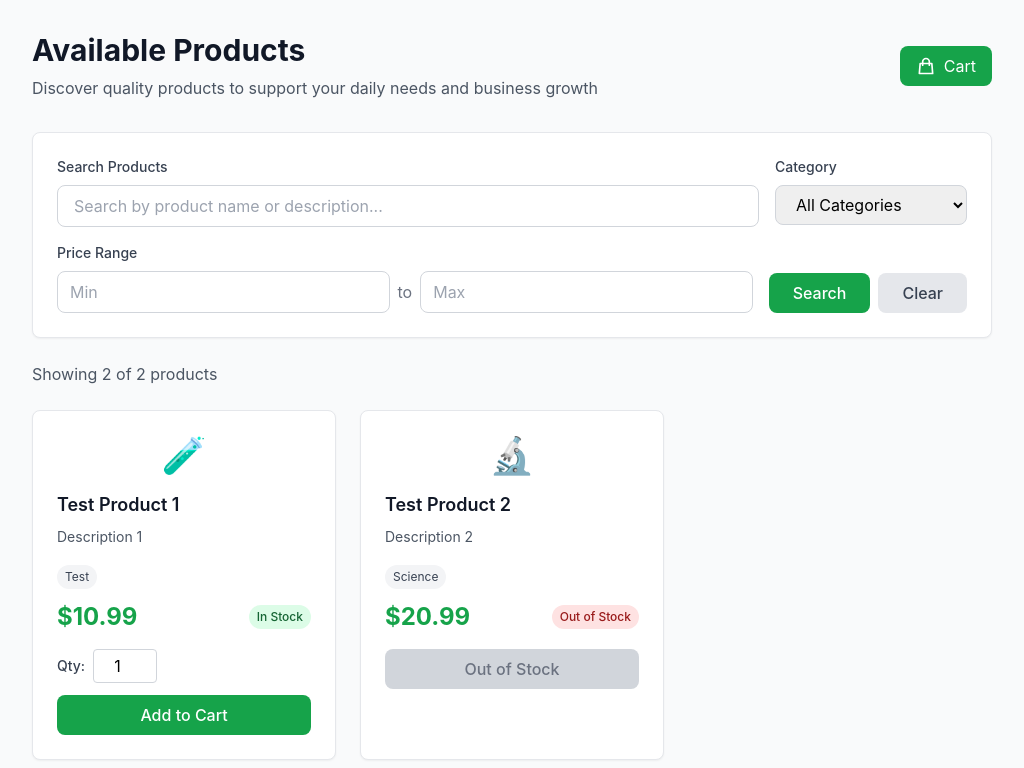
Test: ProductsPage › price range filter works correctly
expect the heading "Test Product 1" is shown: met, box top-left (57, 494), bottom-right (180, 515)
Type "15" into the number field with placeholder "Min".
click(223, 292); type("15")  # box top-left (57, 271), bottom-right (390, 313)
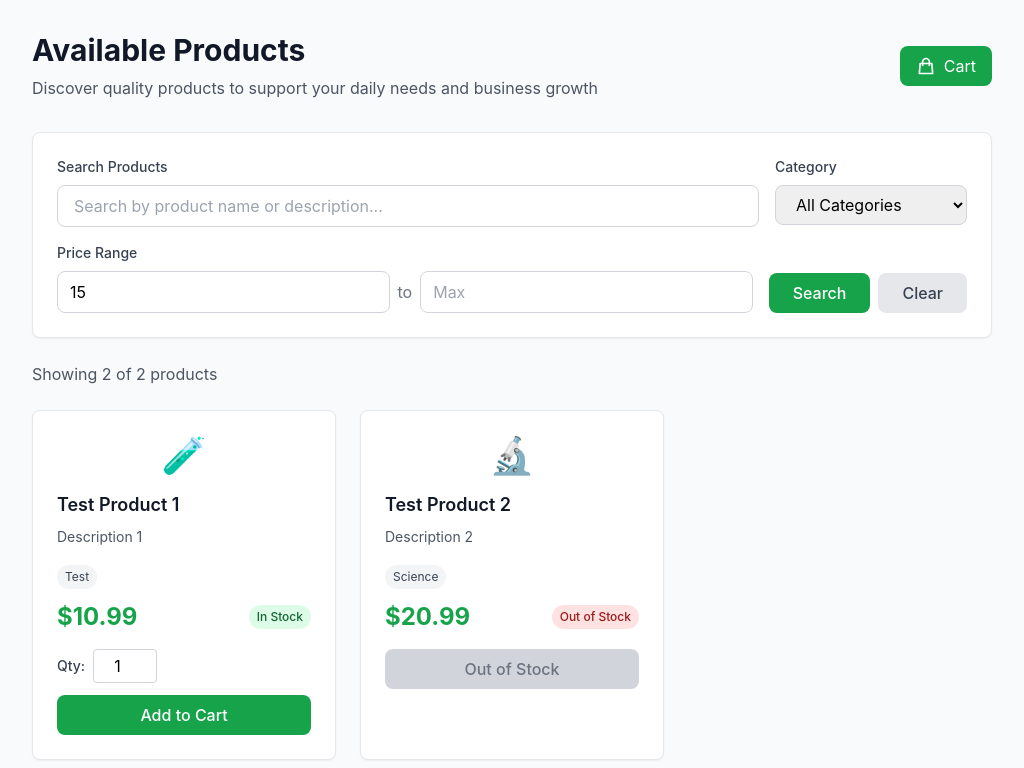
Type "25" into the number field with placeholder "Max".
click(586, 292); type("25")  # box top-left (420, 271), bottom-right (753, 313)
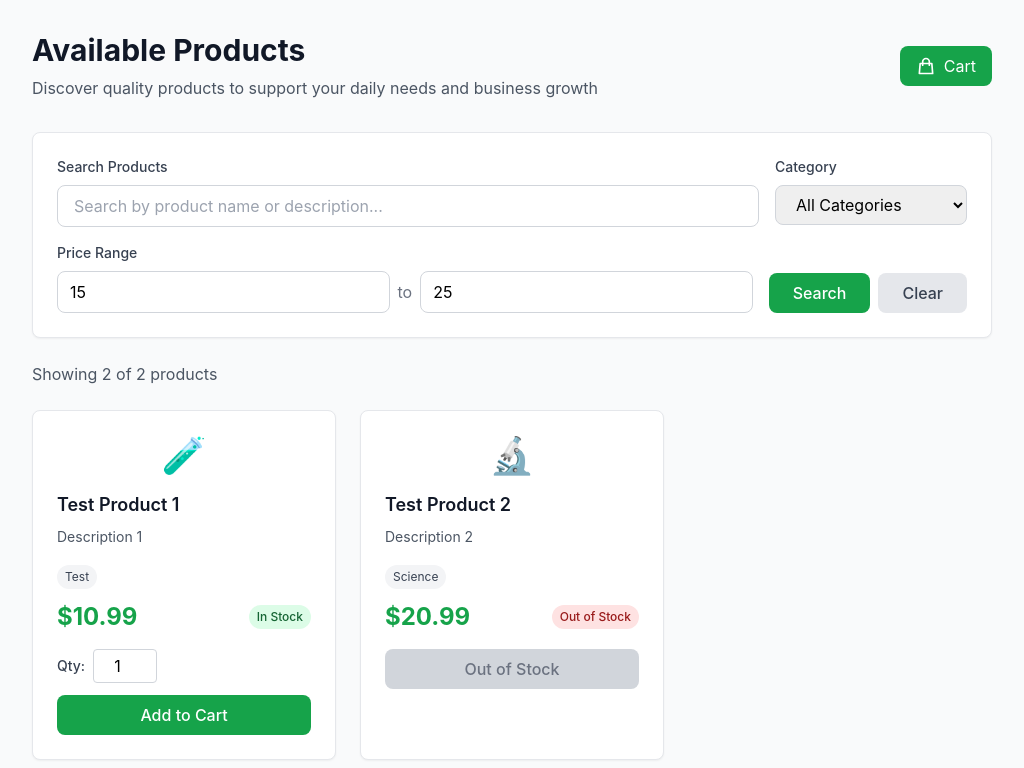
Click the button "Search".
click(820, 293)  # box top-left (769, 273), bottom-right (870, 313)
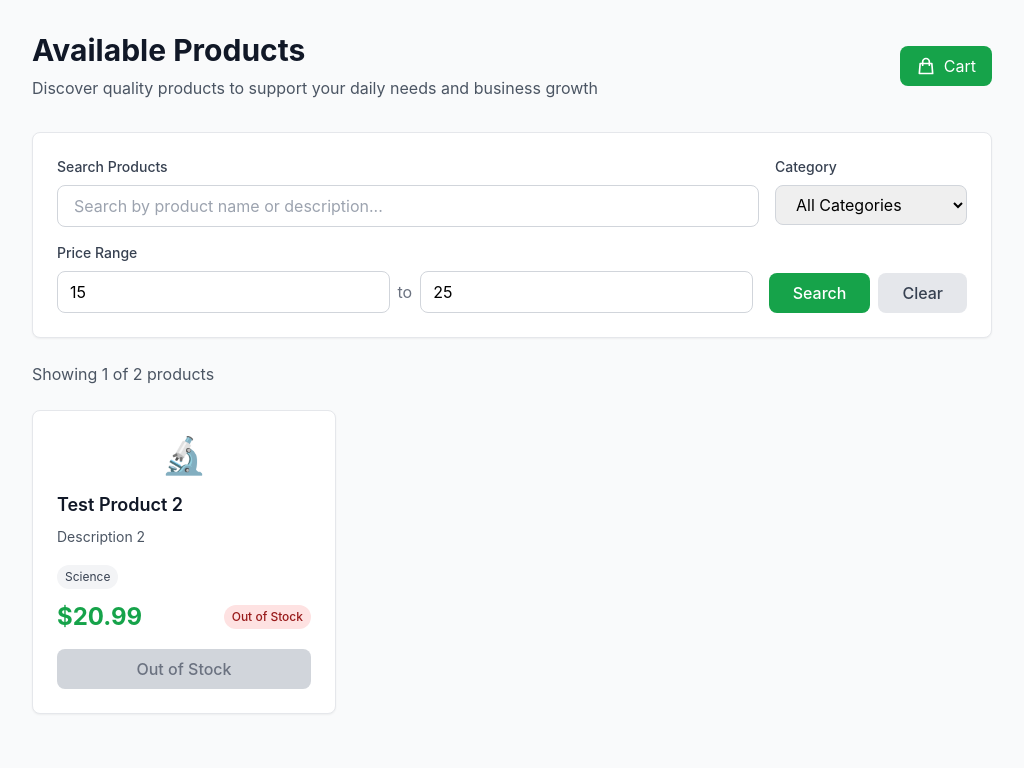
expect the heading "Test Product 2" is shown: met, box top-left (57, 494), bottom-right (183, 515)
expect the heading "Test Product 1" is gone: met
expect the text "Showing 1 of 2 products" is shown: met, box top-left (32, 364), bottom-right (214, 384)
